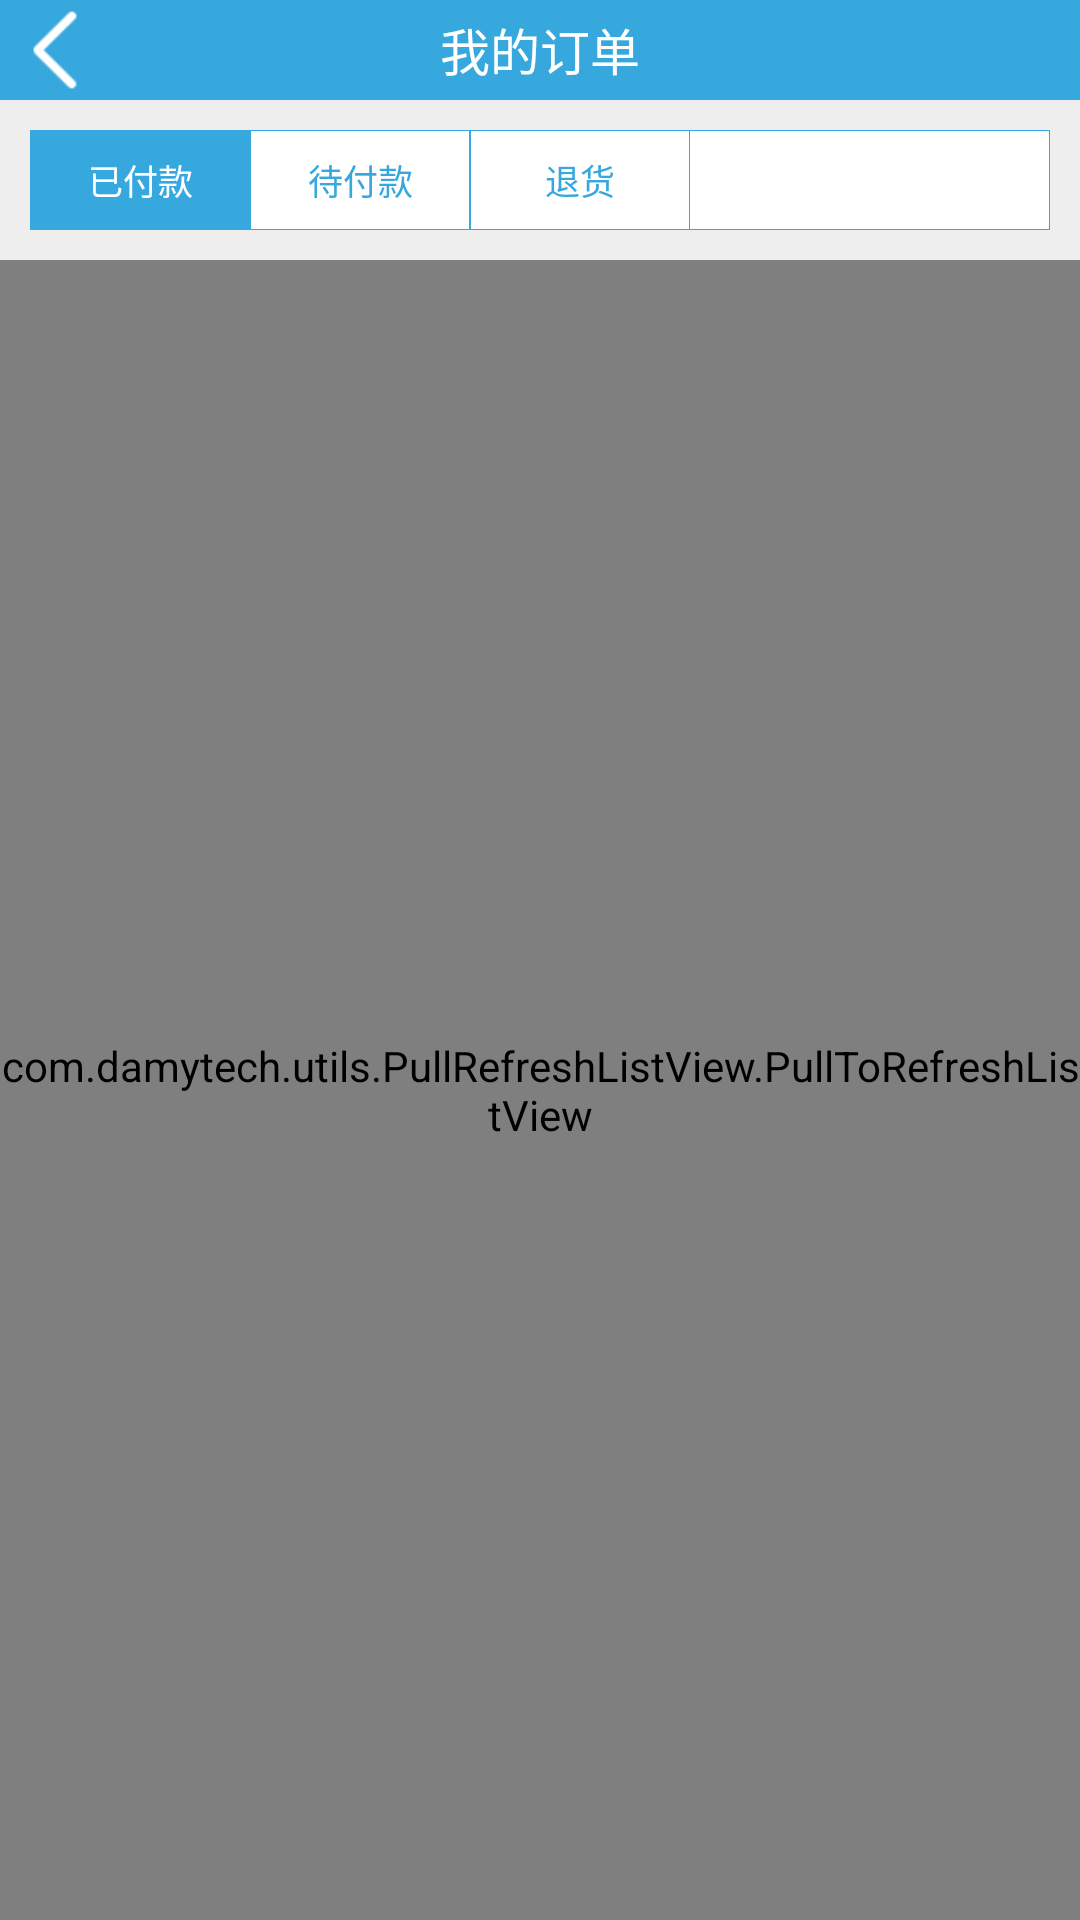

Icons on this 1080*1920 Android screen, each with the point to tap as point (x, y):
leftarrowicon: point (55, 50)
